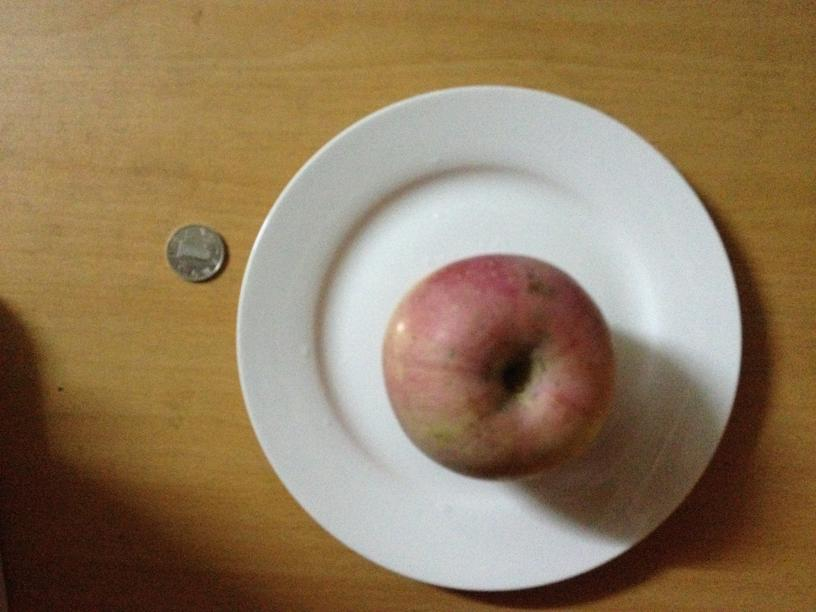apple: (381, 255, 615, 481)
coin: (163, 224, 226, 282)
